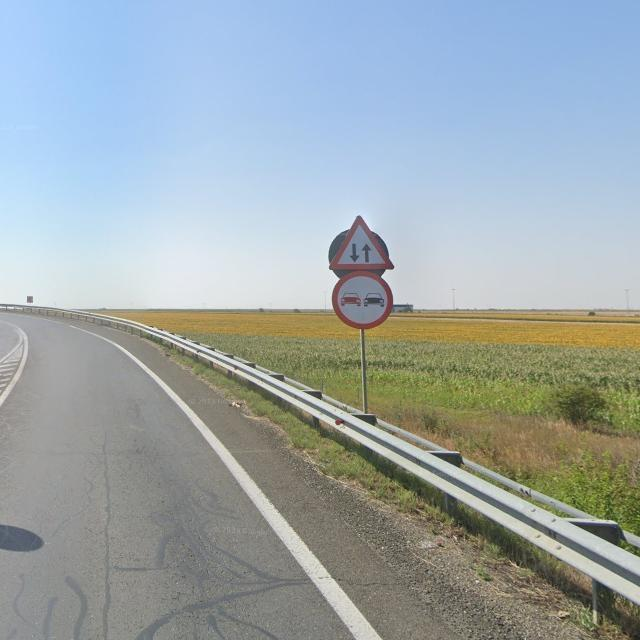forb_overtake: (332, 272, 394, 331)
